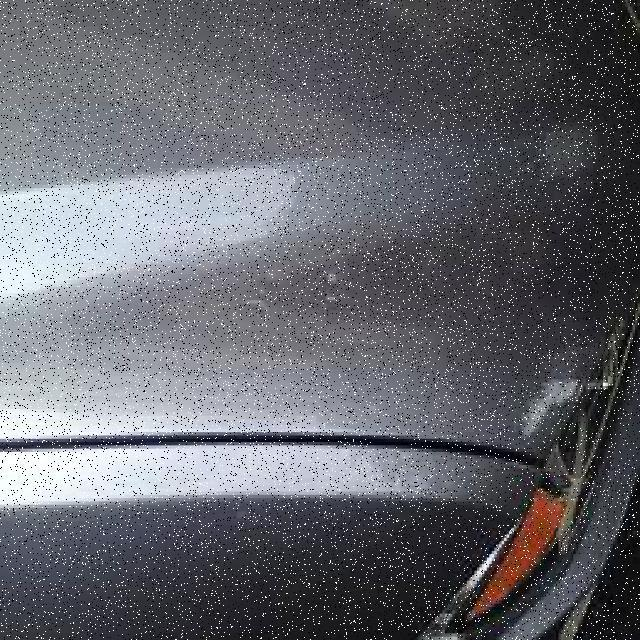bonnet-dent: (0, 0, 596, 528)
